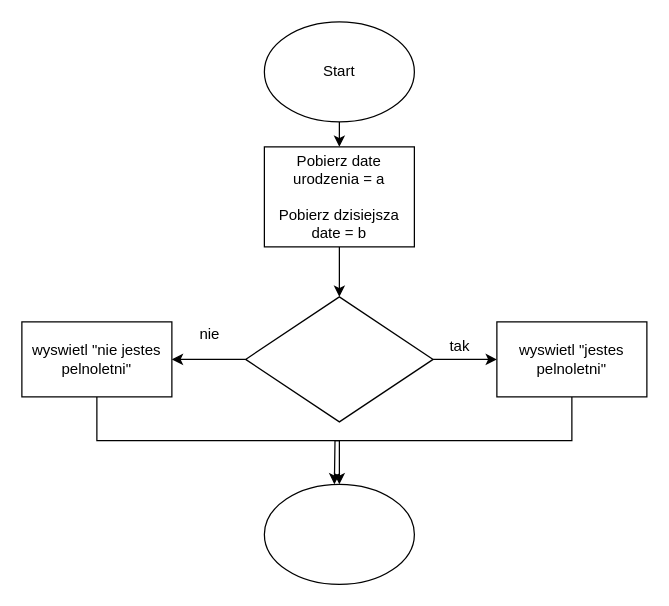
This 669x606 diagram has some shape labels left out. The shapes that lost their labels are listed below. From the top down, each one's centre as x and y in pixels, then its label:
[338,359]: a-b=>18
[338,533]: Stop
